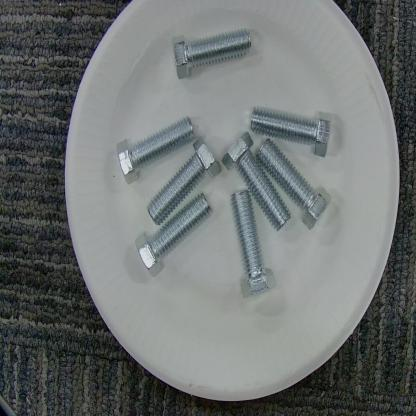FOD: (116, 102, 336, 306), (167, 22, 259, 81)
